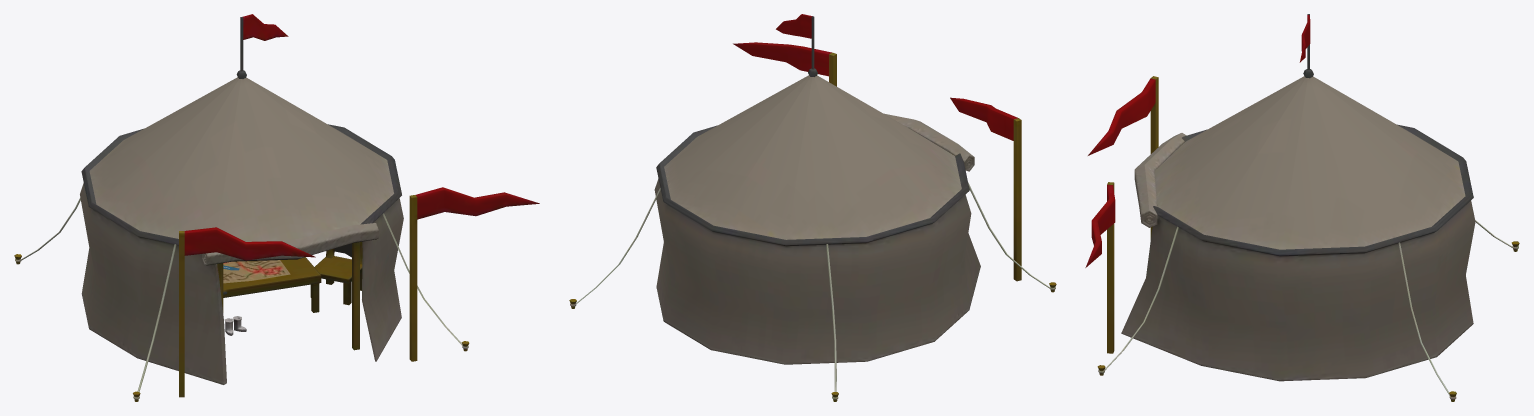
File: tent_general.glb
The picture shows the model from 3 angles, left to right: view 1: azimuth 30°, elevation 25°; view 2: azimuth 150°, elevation 25°; view 3: azimuth 270°, elevation 25°; orthographic projection. The views are drawn at different scales.
Visible parts, largest first — view 1: Generals_Tent; view 2: Generals_Tent; view 3: Generals_Tent.
Part boxes in pixels (bbox=[...]): Generals_Tent: bbox=[14, 14, 539, 401]; Generals_Tent: bbox=[569, 14, 1056, 401]; Generals_Tent: bbox=[1085, 14, 1519, 401].
Bounding box in the file's own units: 2 × 1.51 × 1.98.
Materials: 1 (1 with a texture image).
